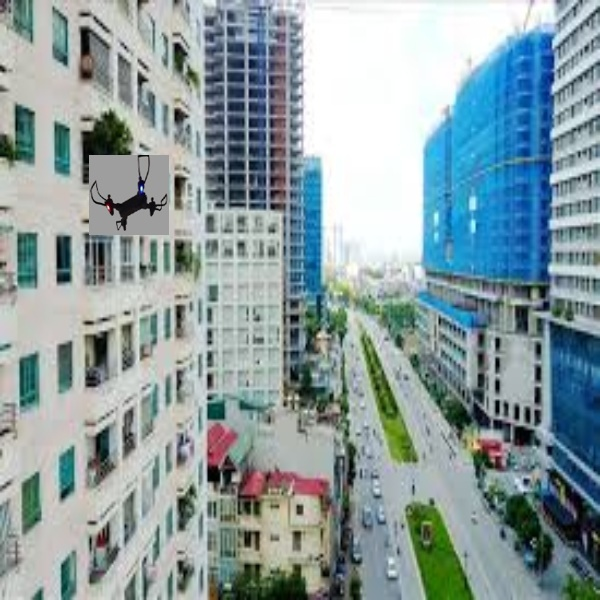drone: (91, 152, 174, 235)
